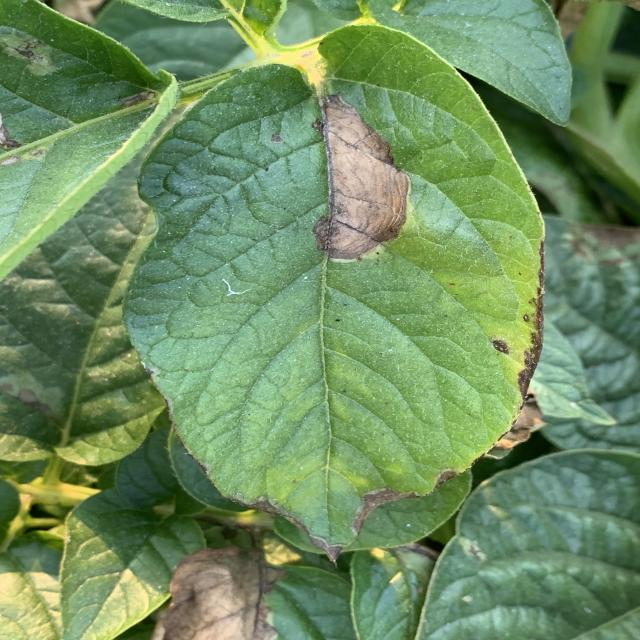lateblight: (322, 95, 410, 259), (152, 546, 285, 640), (490, 268, 543, 395), (483, 389, 547, 460)
